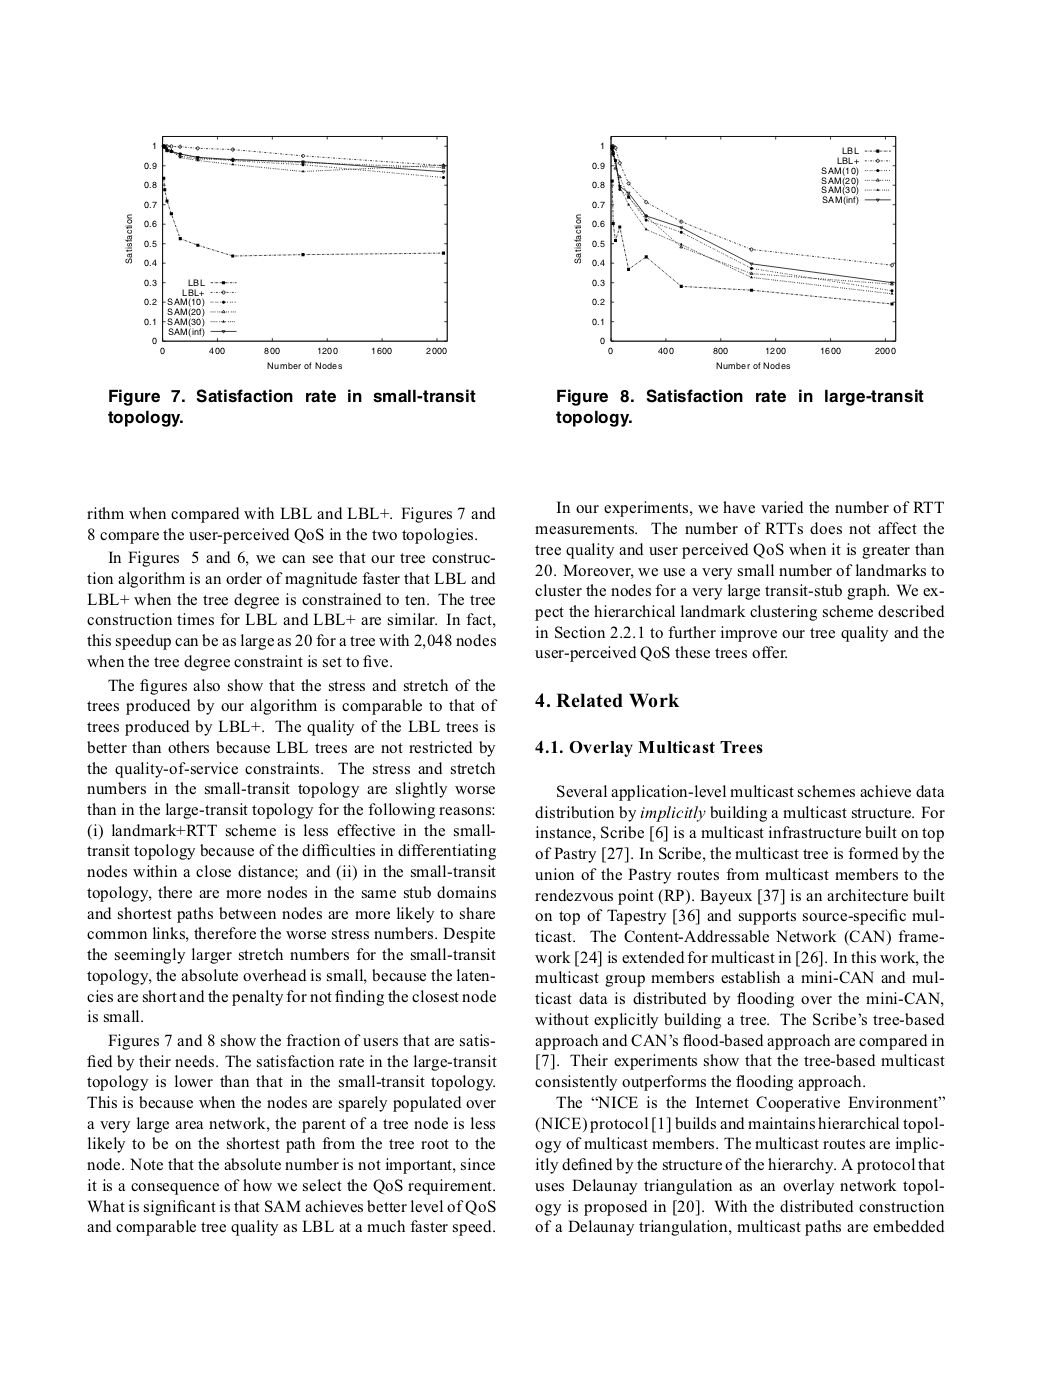figure: (125, 136, 447, 369), (574, 136, 896, 369)
